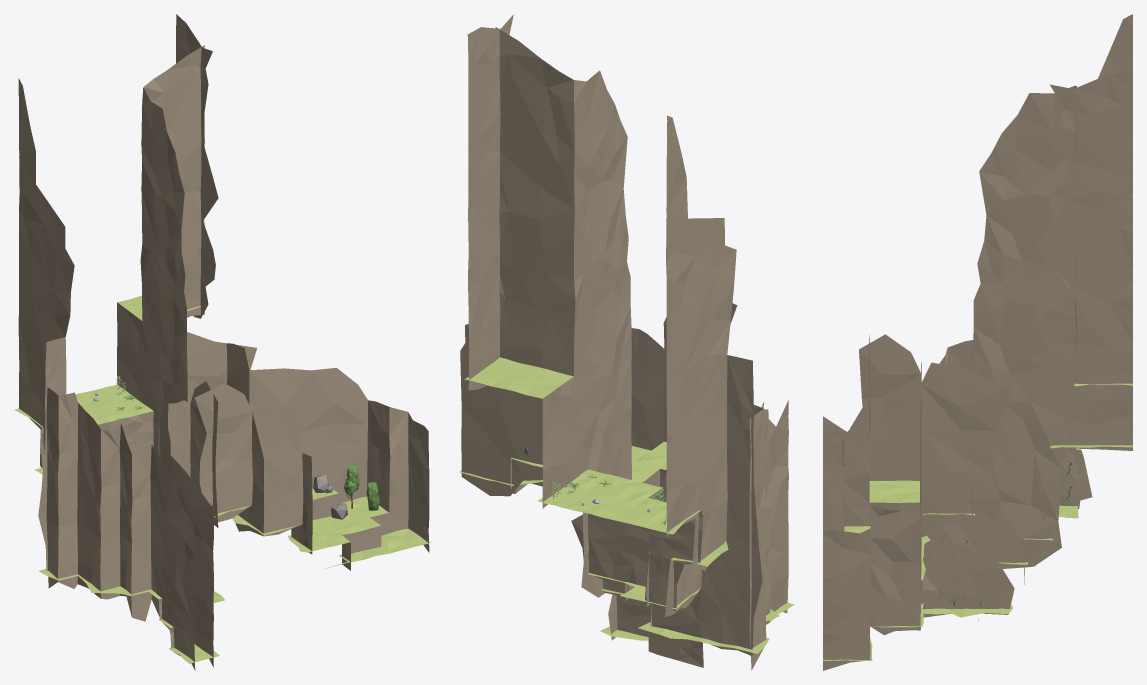
3 renders of one model, left to right at view 1: azimuth 30°, elevation 25°; view 2: azimuth 150°, elevation 25°; view 3: azimuth 270°, elevation 25°, orthographic. The views are drawn at different scales.
Visible parts, largest first — view 1: 4; view 2: 4; view 3: 4.
Boxes of the visible parts, bbox=[...] form: 4: bbox=[14, 14, 430, 670]; 4: bbox=[459, 14, 794, 670]; 4: bbox=[823, 14, 1132, 670].
Size of the model in its own units: 15.52 by 25.87 by 12.
Materials: 1 (1 with a texture image).
